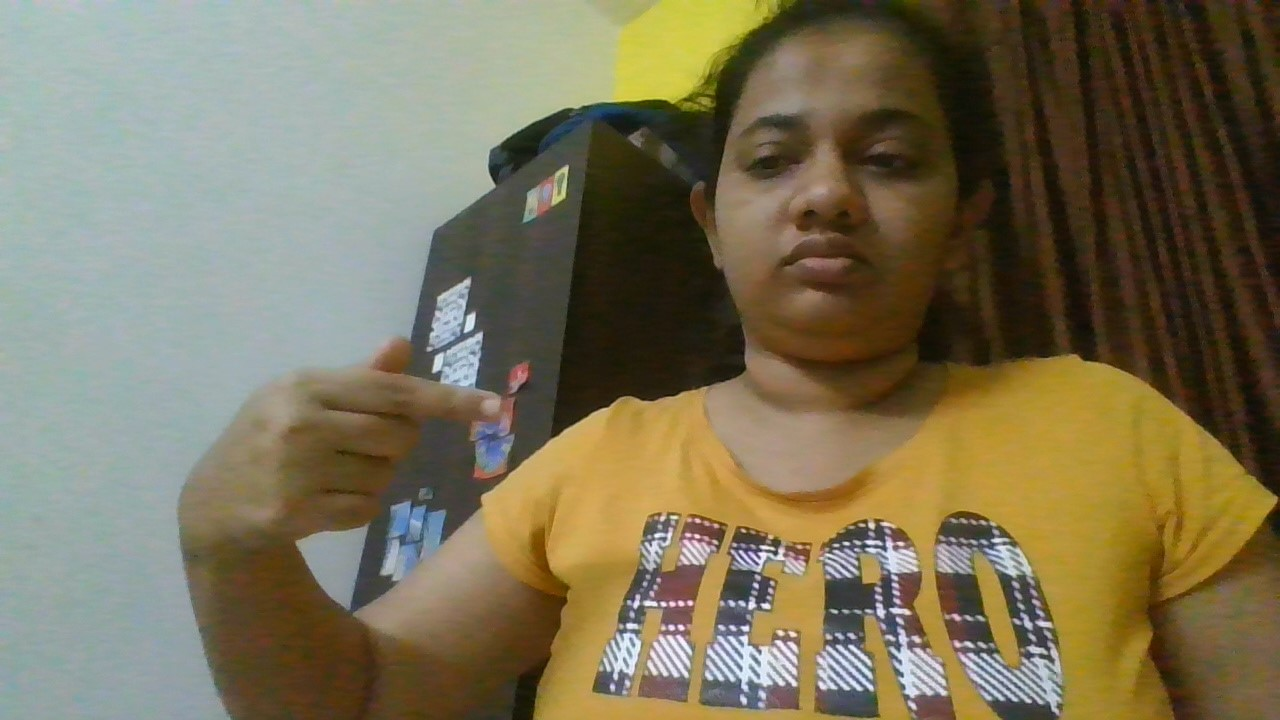g: (154, 330, 517, 566)
